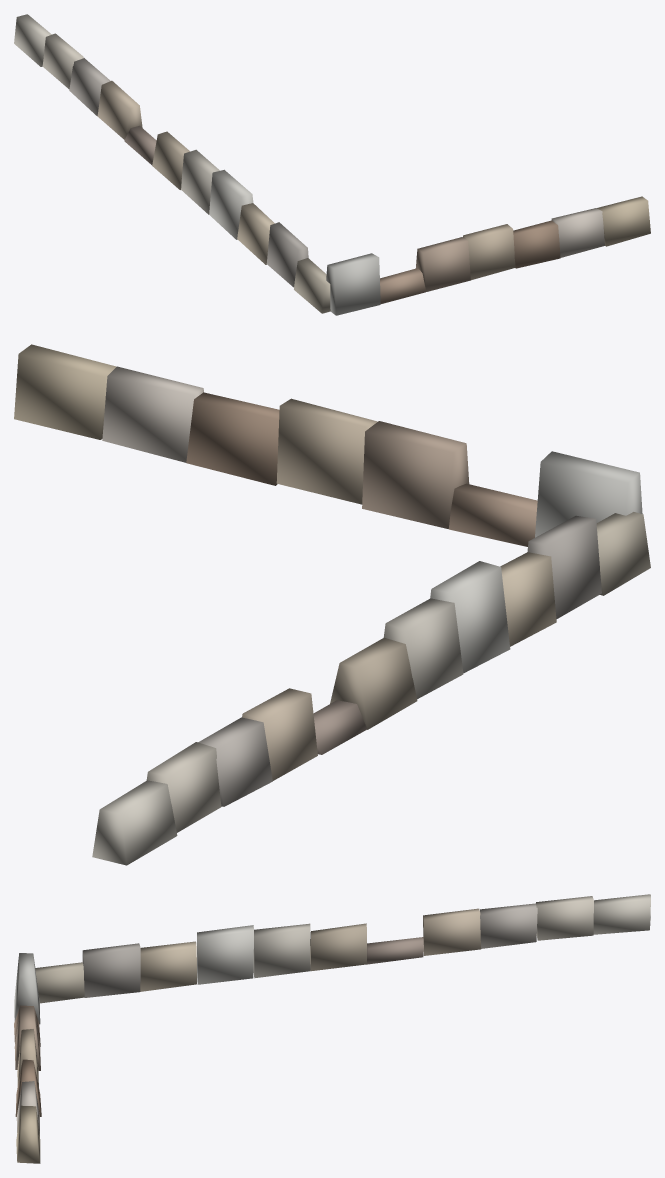
File: farm_36_34_far.glb
3 renders of one model, top to bottom at view 1: azimuth 30°, elevation 25°; view 2: azimuth 150°, elevation 25°; view 3: azimuth 270°, elevation 25°, orthographic. The views are drawn at different scales.
Parts seen in each view (by area): view 1: geometry_0; view 2: geometry_0; view 3: geometry_0.
Boxes of the visible parts, x1=… form: geometry_0: x1=14, y1=14, x2=650, y2=315; geometry_0: x1=14, y1=344, x2=650, y2=865; geometry_0: x1=14, y1=894, x2=650, y2=1163.
Bounding box in the file's own units: 12 × 2.95 × 17.97.
